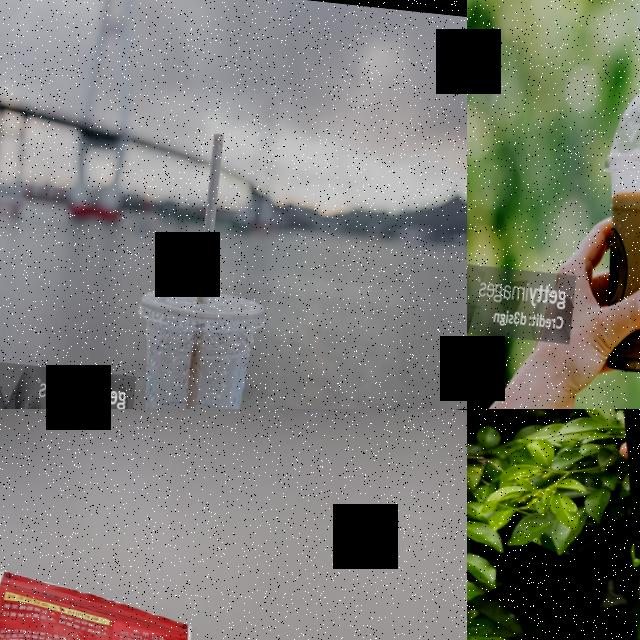cup: (114, 282, 269, 409), (580, 82, 640, 383)
